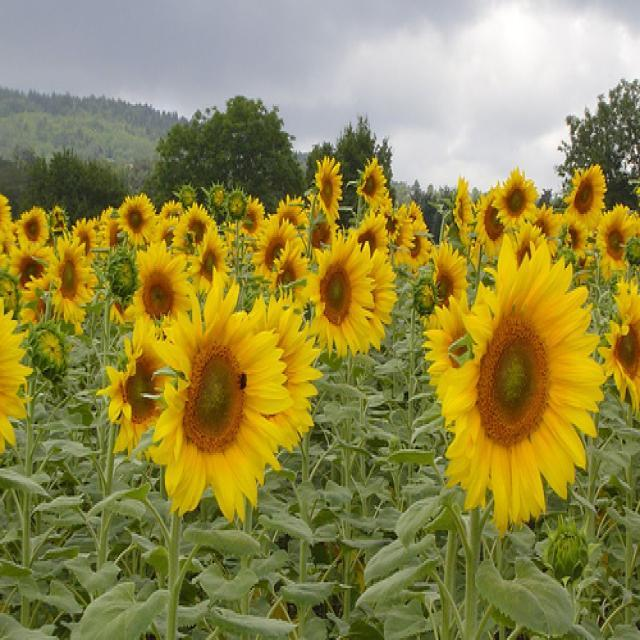sunflower: (437, 234, 607, 536), (155, 269, 293, 520), (96, 310, 174, 460), (248, 293, 318, 453), (308, 231, 378, 356), (597, 277, 640, 418), (423, 289, 483, 386), (134, 240, 192, 328), (49, 236, 95, 324), (0, 298, 25, 454), (364, 249, 398, 338), (492, 168, 540, 228), (250, 216, 296, 278), (564, 165, 608, 228), (429, 242, 467, 310), (599, 202, 636, 270), (10, 240, 54, 297), (476, 179, 506, 256), (119, 193, 158, 248), (272, 240, 308, 293), (513, 218, 548, 272), (312, 156, 341, 215), (353, 211, 389, 257), (195, 236, 228, 286), (357, 158, 387, 208), (451, 175, 474, 240), (305, 213, 340, 250), (16, 207, 48, 247), (393, 234, 432, 266), (375, 202, 402, 248), (527, 202, 562, 236), (276, 289, 305, 329), (70, 216, 98, 254), (98, 208, 125, 246), (564, 220, 588, 262), (184, 203, 212, 238), (280, 198, 306, 235), (240, 198, 262, 234), (402, 200, 426, 230), (156, 220, 178, 250), (0, 195, 12, 248), (160, 200, 182, 222), (110, 301, 128, 326)
